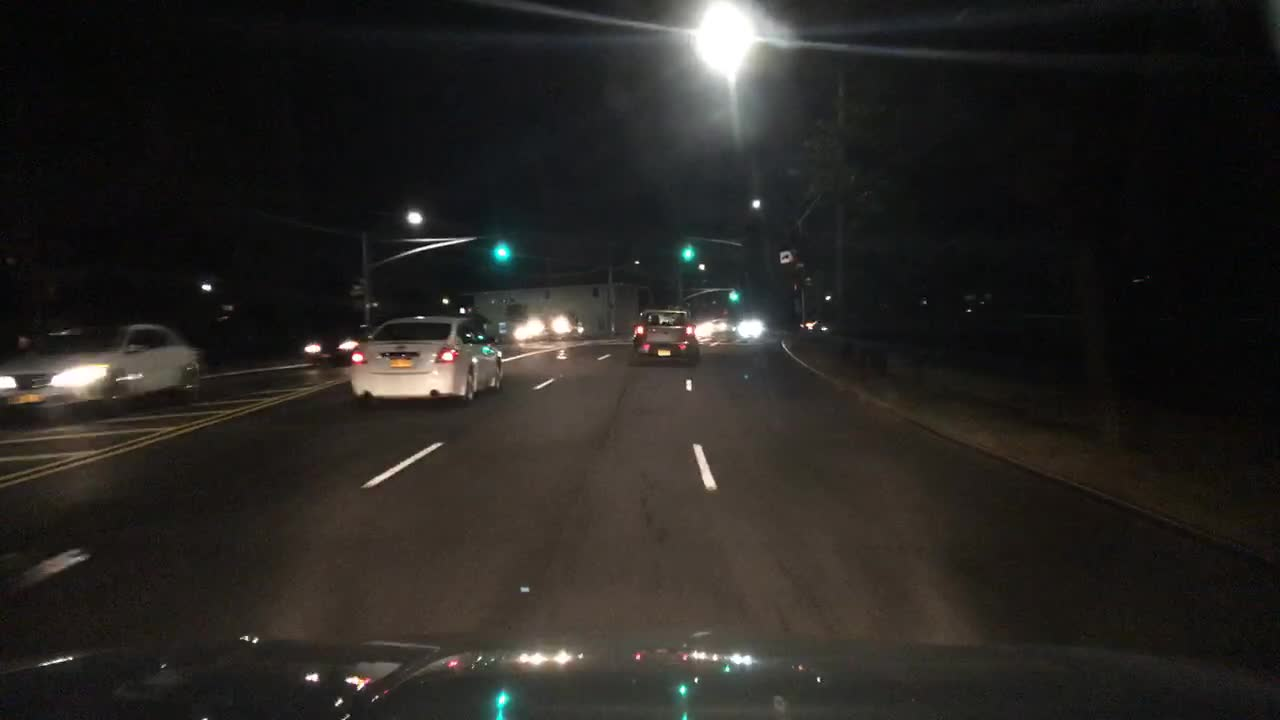car: (0, 322, 201, 423), (349, 312, 503, 408), (633, 306, 700, 366), (298, 319, 375, 366), (532, 310, 584, 337), (737, 316, 765, 335), (512, 319, 532, 337), (695, 322, 712, 336), (812, 320, 828, 331), (713, 318, 726, 330), (806, 319, 818, 329)
traffic light: (495, 238, 508, 259), (681, 244, 693, 259), (728, 290, 737, 301)
traffic sign: (777, 248, 794, 264), (497, 321, 508, 335), (347, 289, 370, 295), (352, 283, 368, 289), (368, 300, 380, 307), (359, 277, 366, 283)
